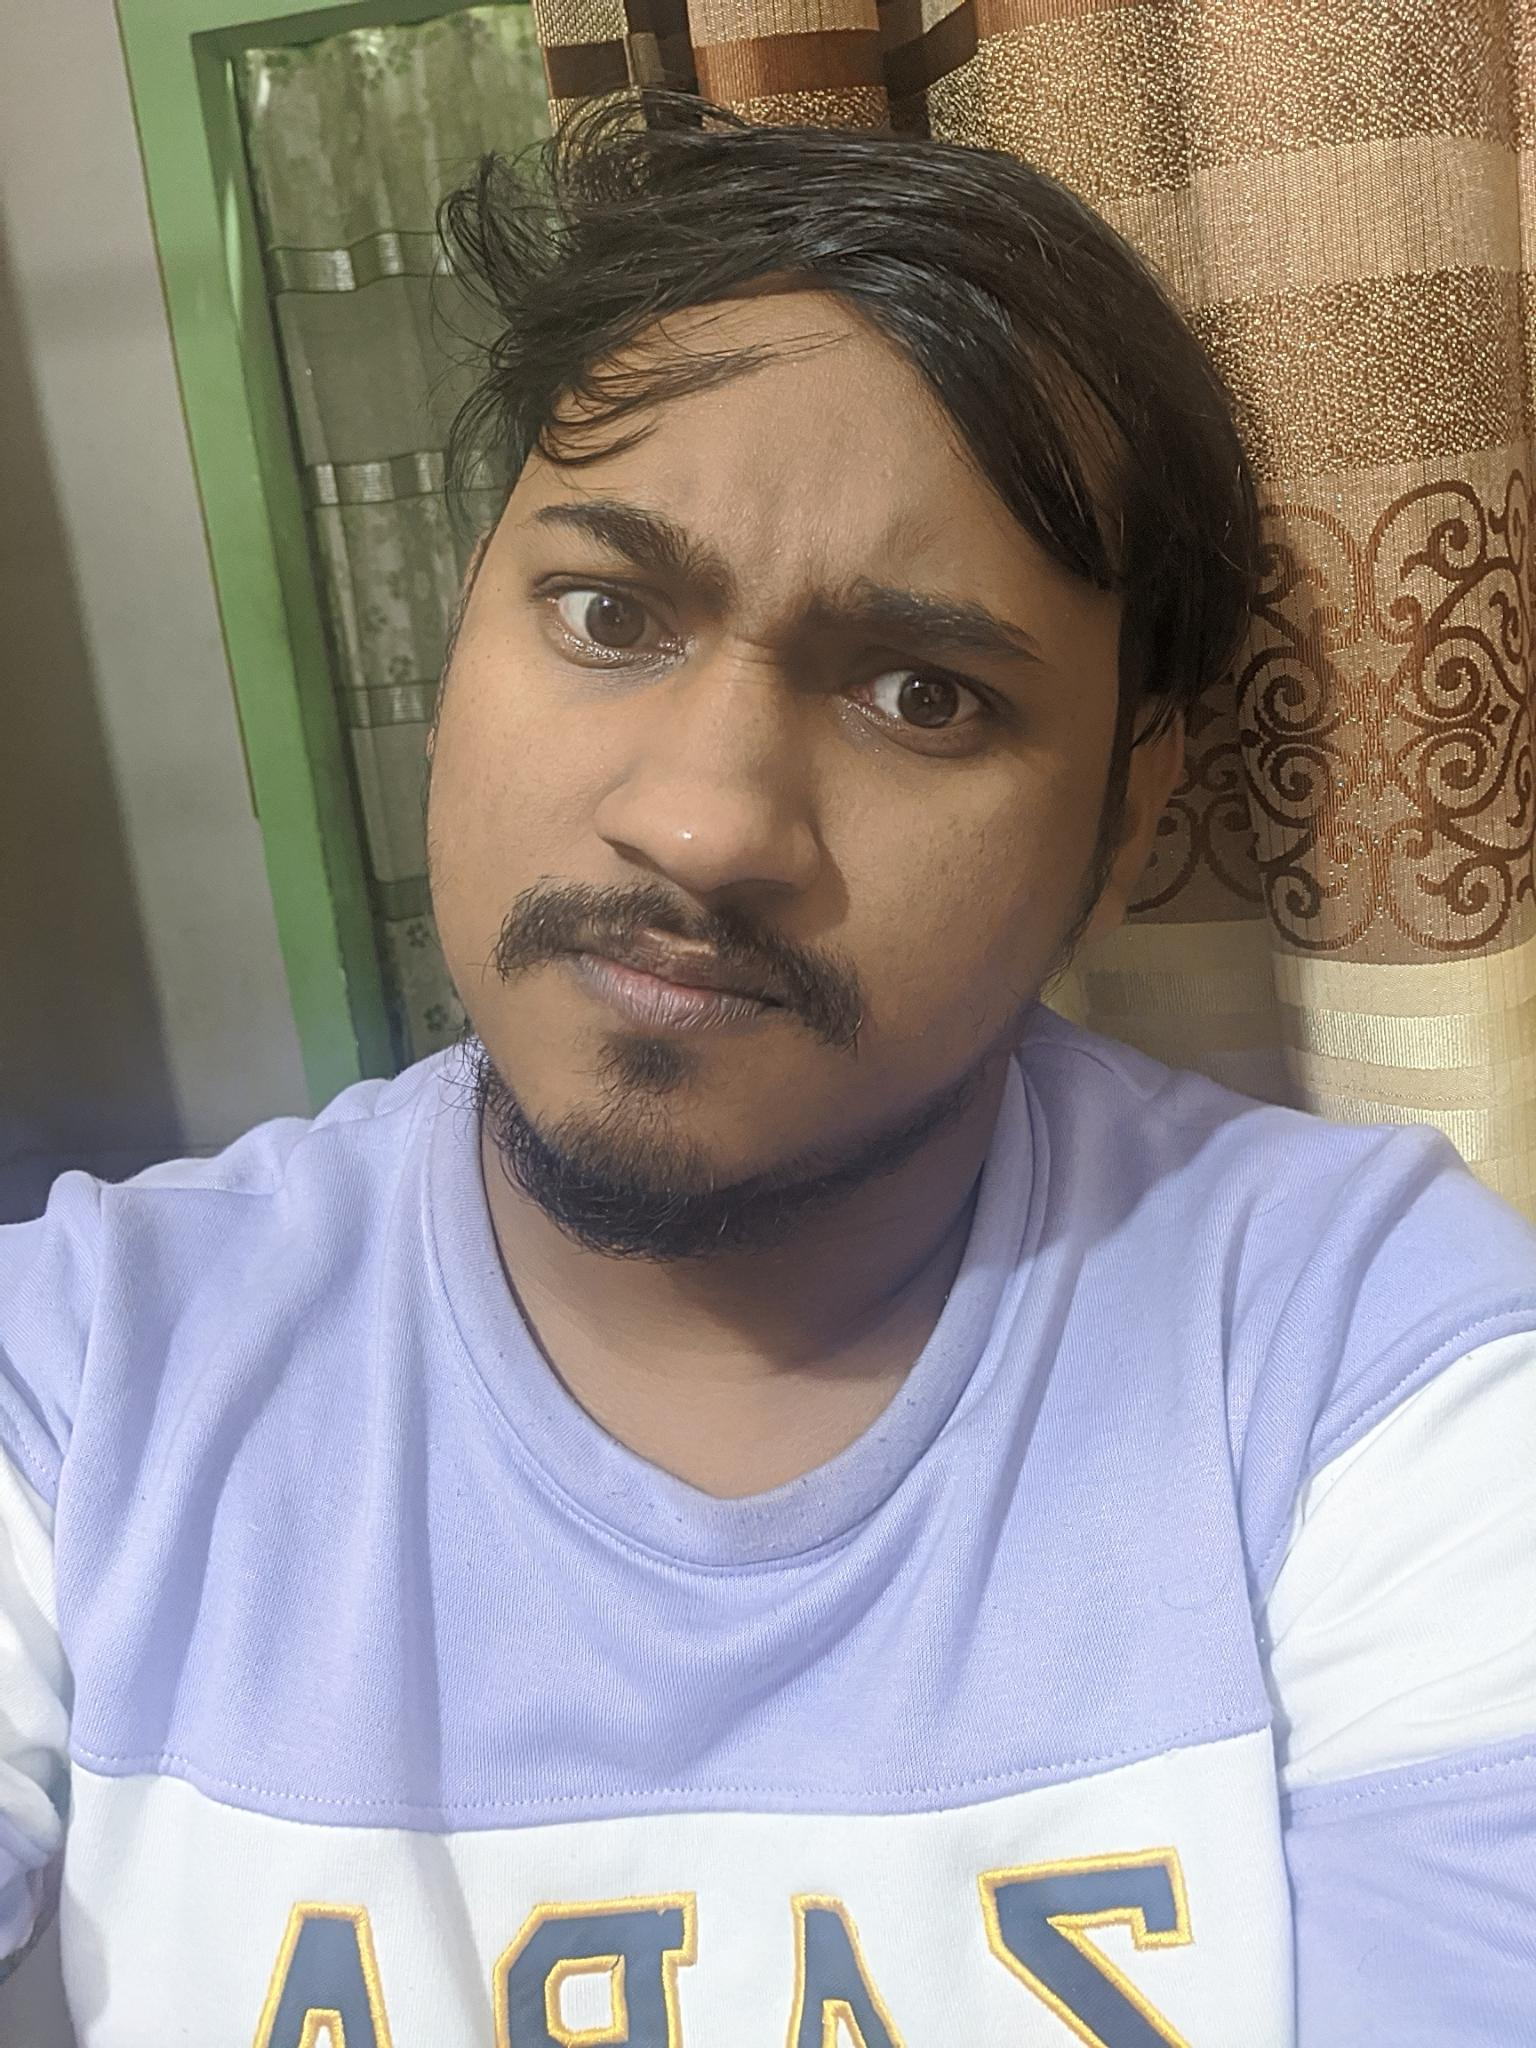Angry: (424, 377, 1084, 1234)
